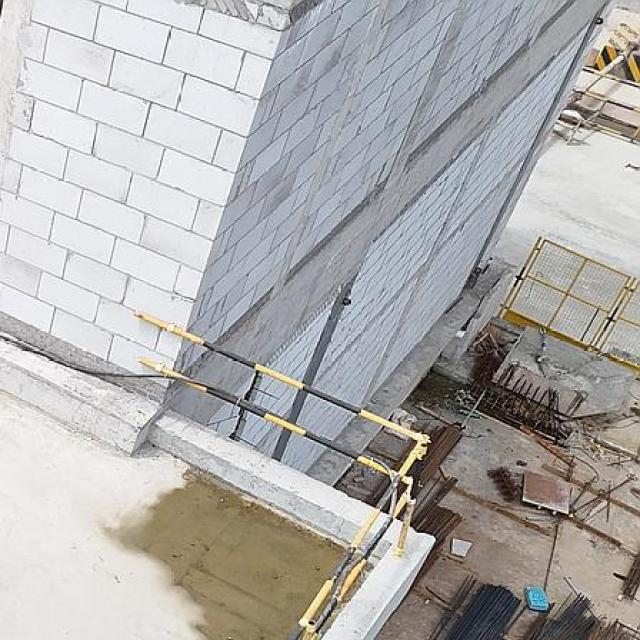edge_guardrail: (133, 310, 427, 640)
